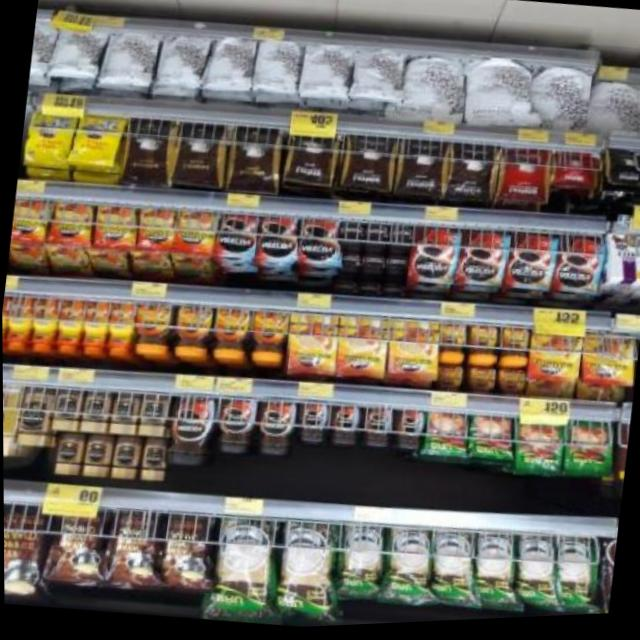Coffee: (165, 393, 218, 468), (386, 320, 441, 385), (334, 317, 388, 382), (285, 313, 338, 378), (407, 227, 459, 288), (505, 234, 556, 296), (526, 330, 580, 388), (578, 334, 633, 390), (457, 232, 508, 292), (557, 237, 603, 298), (212, 397, 258, 457), (250, 400, 296, 459), (13, 384, 53, 447), (206, 310, 251, 363), (245, 311, 289, 365), (170, 305, 213, 360), (130, 300, 172, 356), (45, 199, 91, 247), (212, 212, 257, 260), (91, 204, 136, 251), (294, 219, 338, 267), (51, 295, 86, 355), (172, 208, 216, 255), (77, 300, 111, 359), (256, 215, 298, 262), (28, 295, 60, 354), (9, 196, 48, 244), (103, 301, 134, 358), (3, 294, 33, 352), (136, 208, 174, 251), (358, 408, 394, 452), (135, 393, 170, 437), (295, 404, 330, 448), (436, 322, 469, 368), (50, 429, 82, 476), (79, 432, 111, 478), (44, 242, 86, 277), (80, 389, 113, 433), (108, 390, 141, 434), (495, 330, 528, 374), (464, 327, 497, 371), (388, 412, 423, 453), (110, 434, 141, 480), (48, 387, 80, 431), (127, 249, 169, 282), (138, 437, 168, 483), (327, 408, 359, 450), (5, 241, 46, 273), (85, 247, 126, 279), (170, 254, 210, 286), (464, 368, 495, 399), (494, 370, 524, 399), (434, 366, 461, 396), (386, 227, 414, 253), (335, 252, 362, 278), (338, 223, 365, 249), (365, 225, 391, 251), (359, 254, 385, 278), (385, 257, 409, 279), (330, 278, 354, 298), (380, 282, 404, 302), (356, 279, 380, 299), (2, 295, 8, 348)
